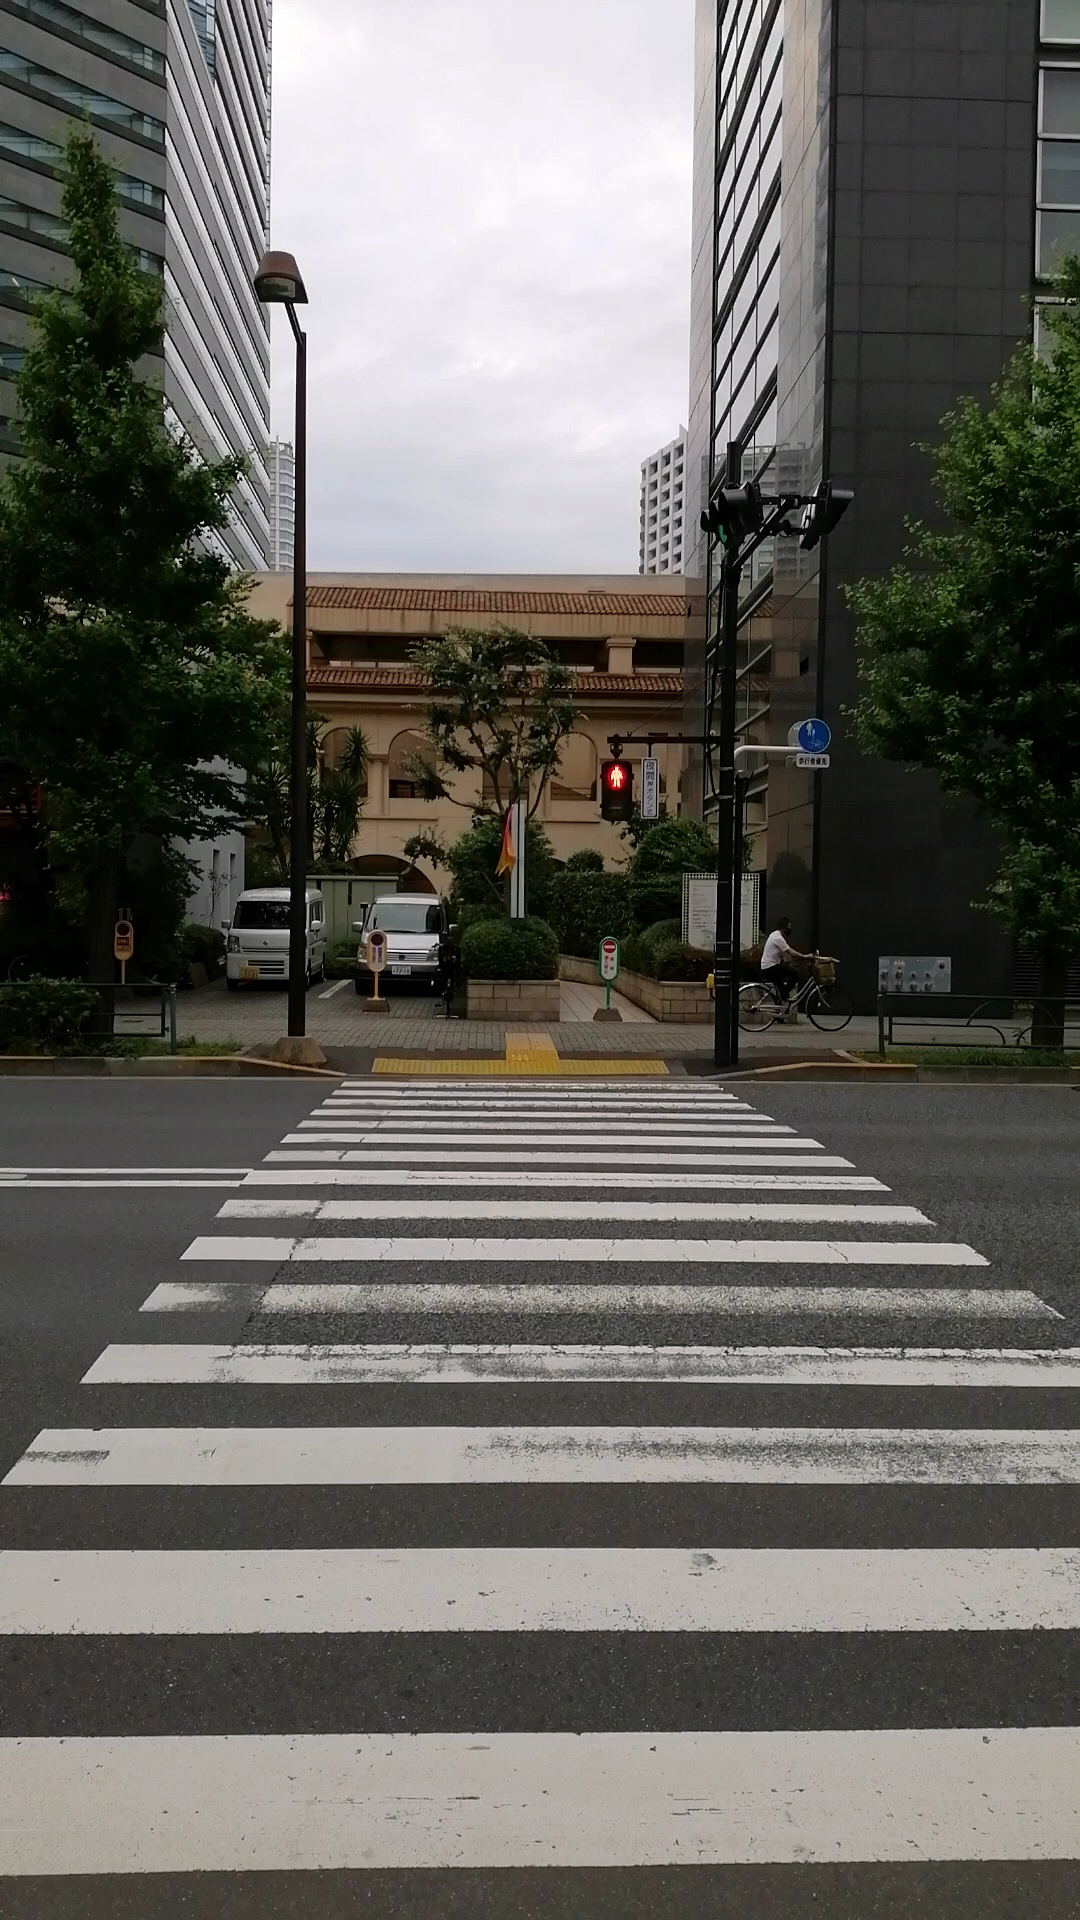red: (600, 761, 632, 820)
